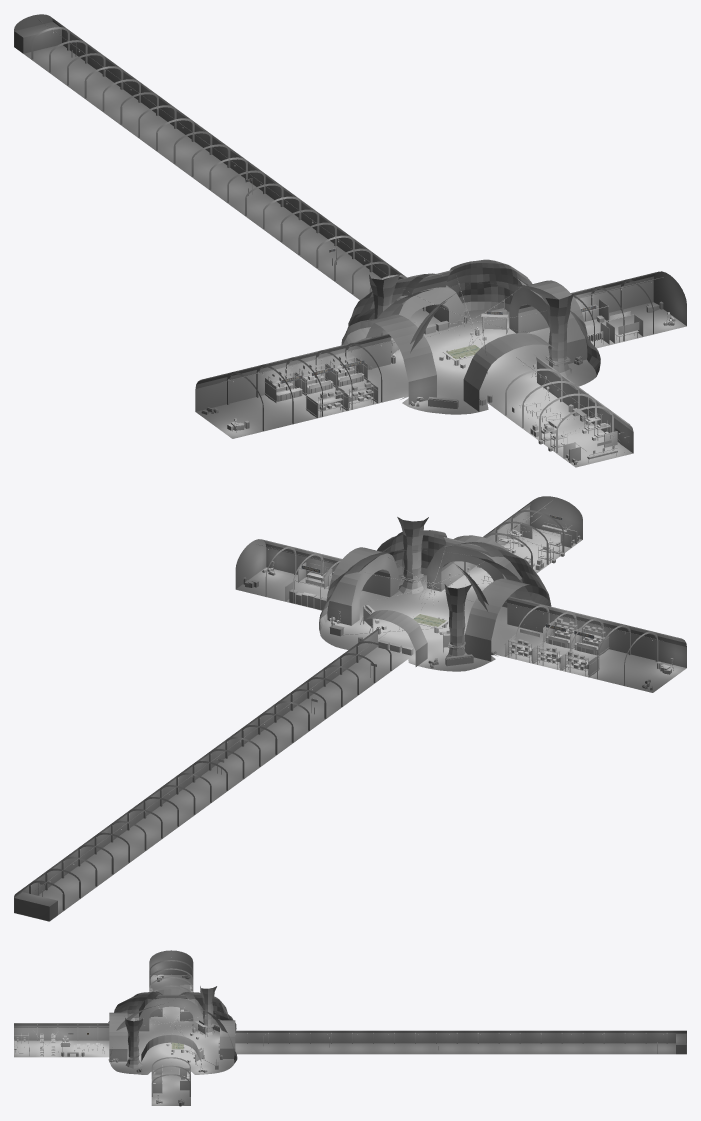
File: hideout.glb
The picture shows the model from 3 angles, top to bottom: view 1: azimuth 30°, elevation 25°; view 2: azimuth 150°, elevation 25°; view 3: azimuth 270°, elevation 25°; orthographic projection. The views are drawn at different scales.
Visible parts, largest first — view 1: hideout; view 2: hideout; view 3: hideout.
Boxes of the visible parts, left/top/right/bottom form: hideout: left=14, top=14, right=686, bottom=467; hideout: left=14, top=496, right=686, bottom=921; hideout: left=14, top=950, right=686, bottom=1106.
Size of the model in its own units: 71.25 by 12.01 by 154.
Materials: 2 (1 with a texture image).
